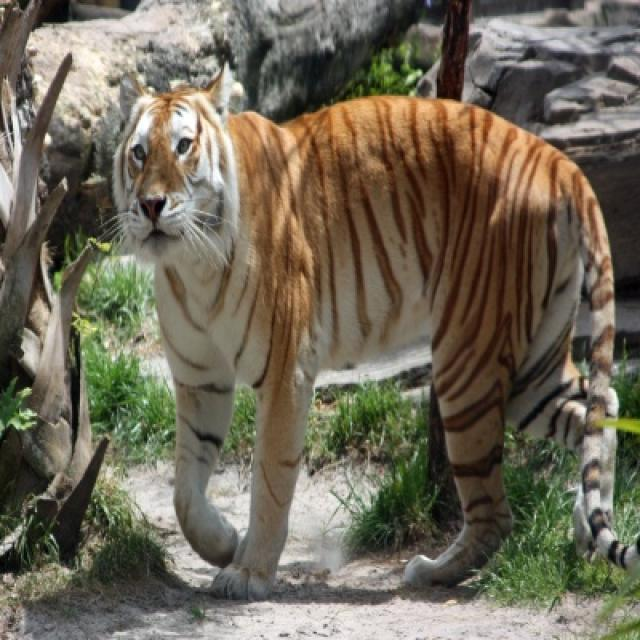Tiger: (114, 63, 618, 585)
